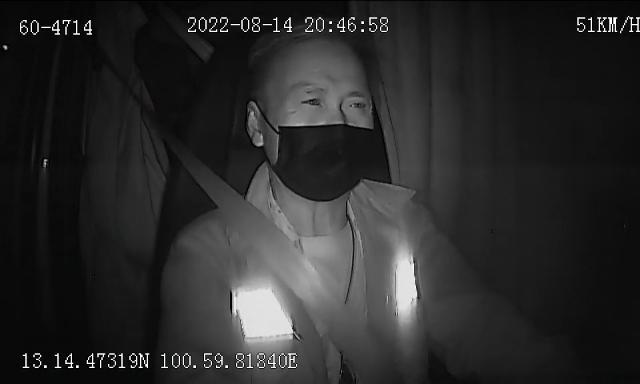SafeDriving: (338, 90, 374, 116), (294, 88, 328, 112)
Seatbelt: (150, 116, 374, 384)
